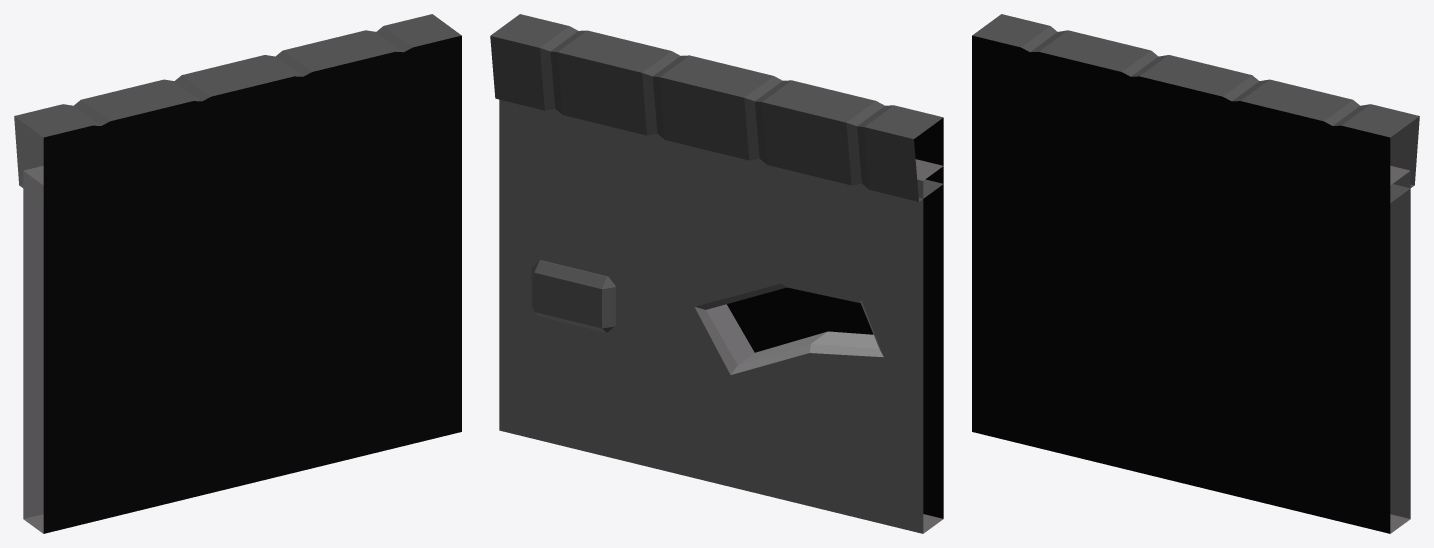
File: Wall_9.fbx
The picture shows the model from 3 angles, left to right: view 1: azimuth 30°, elevation 25°; view 2: azimuth 150°, elevation 25°; view 3: azimuth 330°, elevation 25°; orthographic projection.
Parts seen in each view (by area): view 1: Wall_9; view 2: Wall_9; view 3: Wall_9.
Part boxes in pixels (x1=…): Wall_9: x1=14, y1=14, x2=461, y2=533; Wall_9: x1=490, y1=14, x2=943, y2=533; Wall_9: x1=972, y1=14, x2=1419, y2=533.
Size of the model in its own units: 200 by 181 by 24.35.
